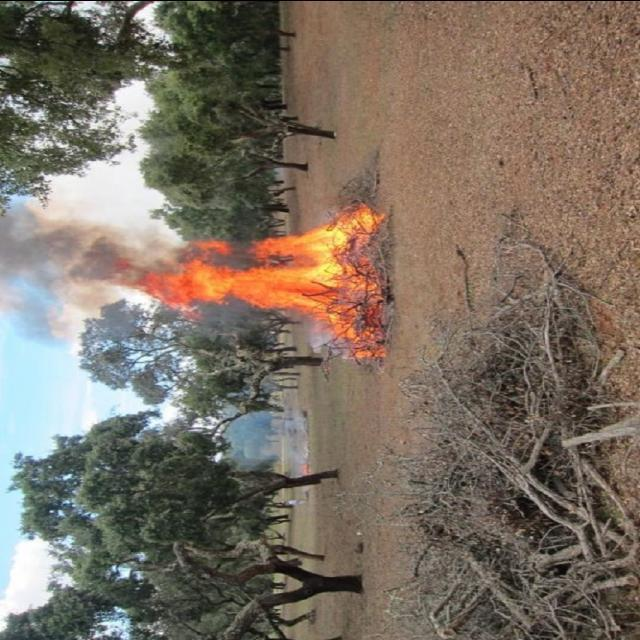Fire: (151, 208, 382, 358)
